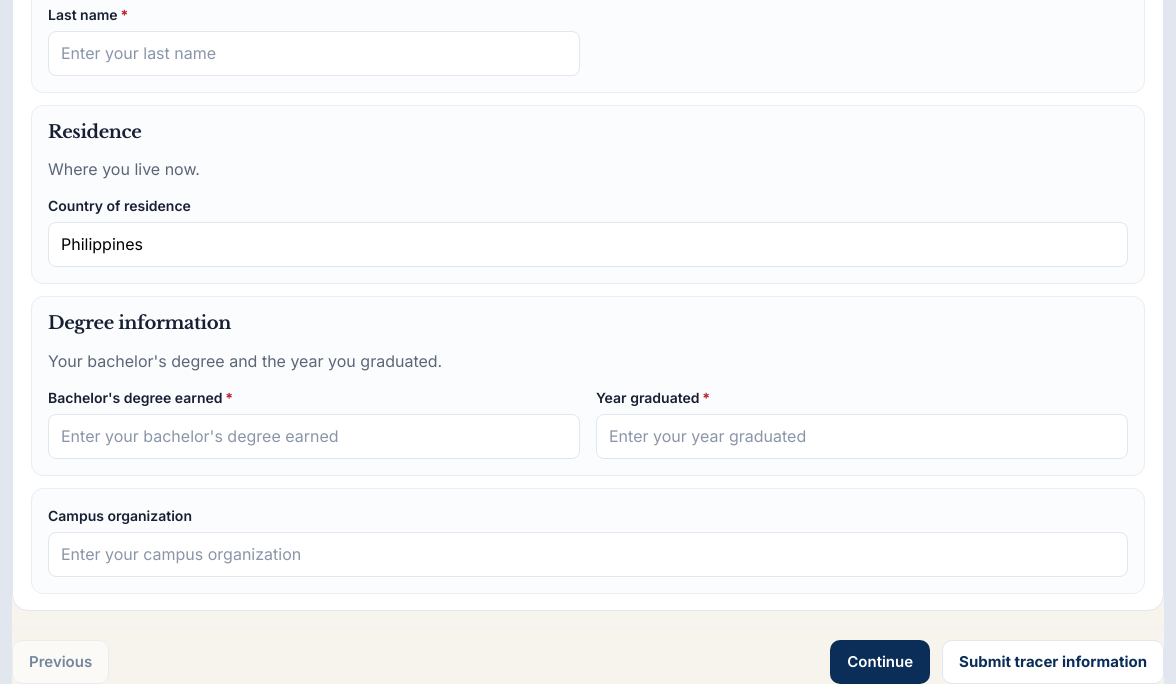
Scenario: Graduate Tracer Survey form › shows section progress and moves between sections from the tabs and footer
The width and height of the screenshot is (1176, 684).
(page scrolled)
Expected: the button "Previous" is disabled, [12, 640, 109, 683]
Expected: the field labelled "Campus organization" is shown, [48, 532, 1128, 578]
Step 1. Press Arrowright
(page scrolled)
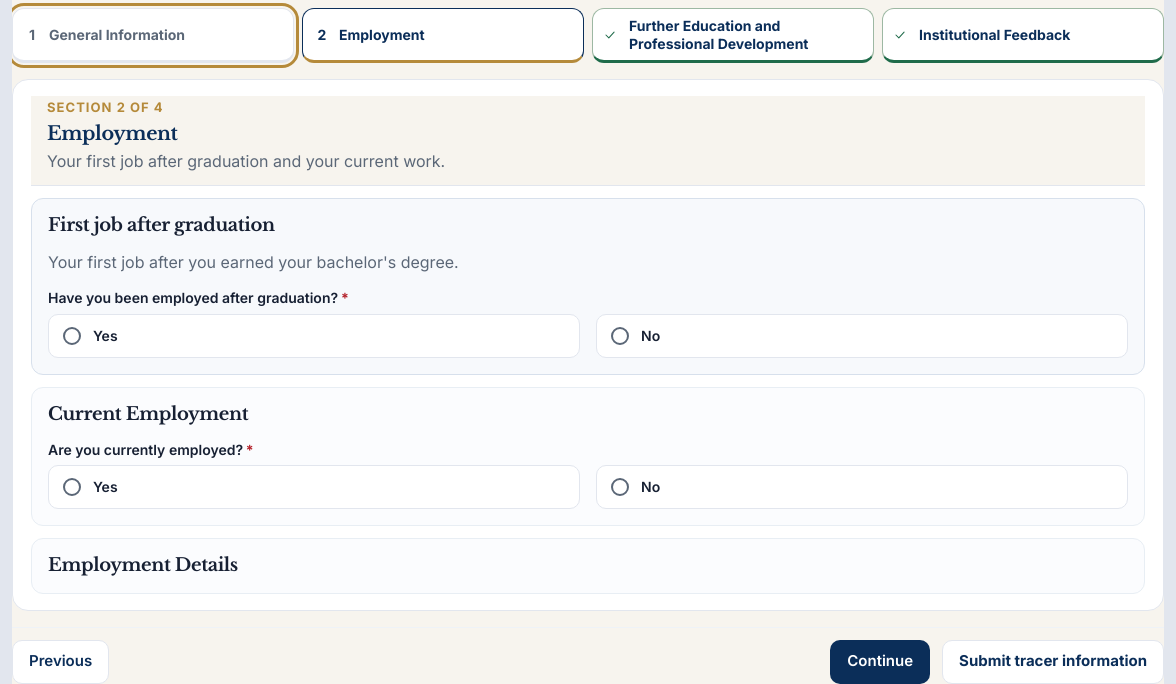
Now the heading "First job after graduation" is shown, box [48, 214, 275, 236]
Step 2. Click the button "Continue" → (880, 662), box [830, 640, 930, 683]
(page scrolled)
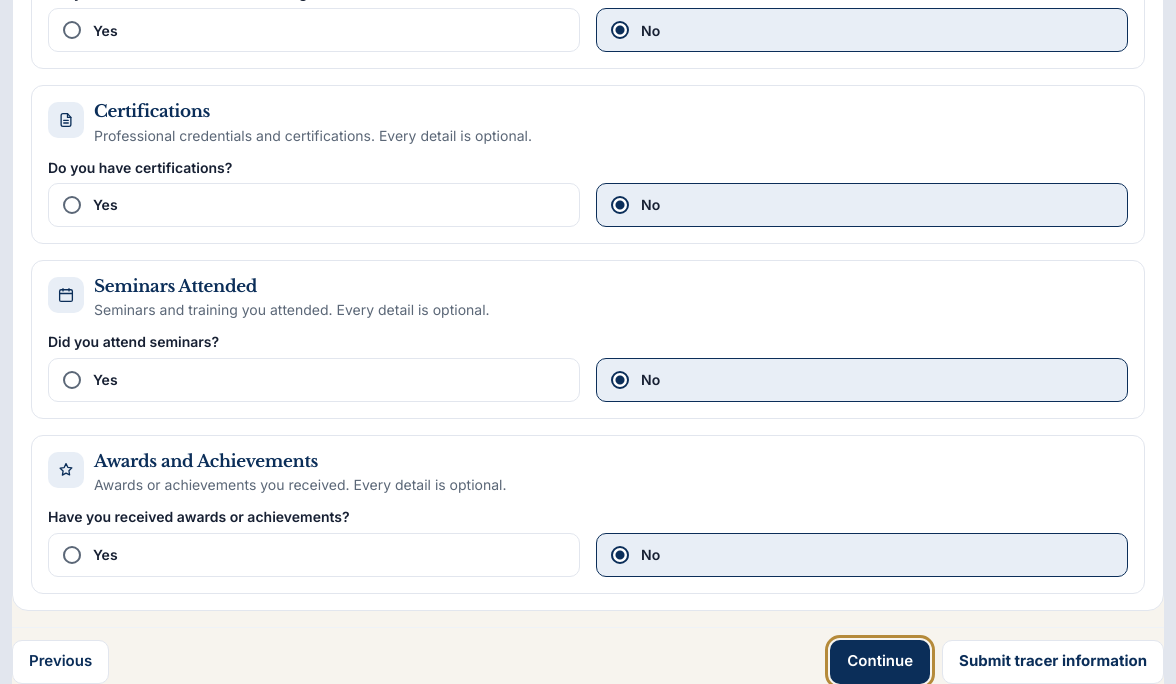
Step 3. Click the button "Previous" → (61, 662), box [12, 640, 109, 683]
(page scrolled)
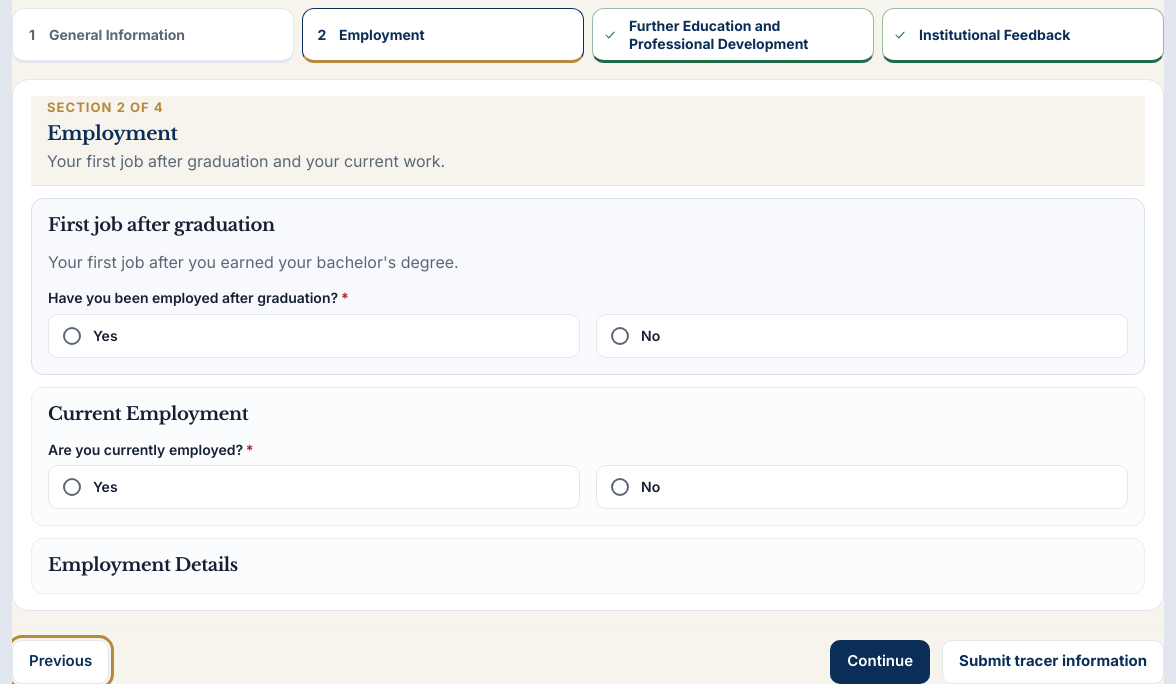
Now the heading "Current Employment" is shown, box [48, 403, 248, 425]
